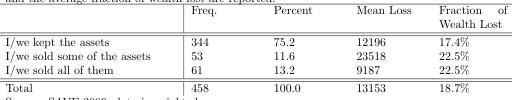table: (4, 4, 506, 93)
table column: (4, 4, 169, 93), (333, 4, 424, 93), (244, 4, 333, 93), (424, 4, 506, 93), (169, 4, 244, 93)
table column header: (4, 4, 506, 33)
table row: (4, 4, 506, 33), (4, 33, 506, 49), (4, 63, 506, 79), (4, 49, 506, 63), (4, 79, 506, 93)
